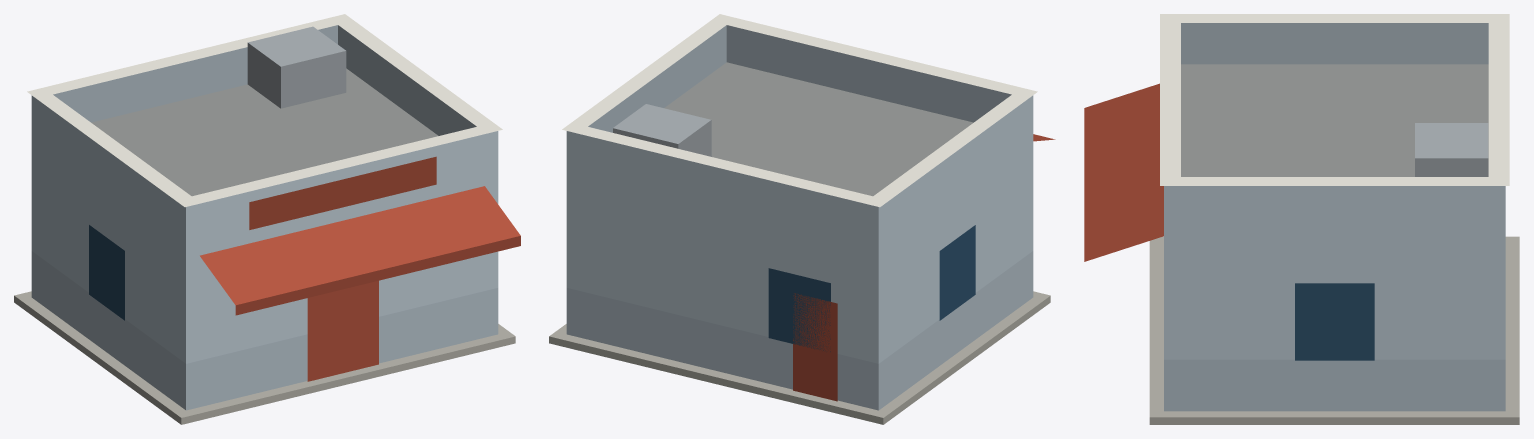
The model's file is store_7x6_lod1.glb.
The picture shows the model from 3 angles, left to right: view 1: azimuth 30°, elevation 25°; view 2: azimuth 150°, elevation 25°; view 3: azimuth 270°, elevation 25°; orthographic projection. The views are drawn at different scales.
Parts seen in each view (by area): view 1: block; view 2: block; view 3: block.
Part boxes in pixels (bbox=[...]): block: bbox=[14, 14, 520, 424]; block: bbox=[549, 14, 1055, 424]; block: bbox=[1084, 14, 1519, 424].
Size of the model in its own units: 7.5 by 4.65 by 7.65.
